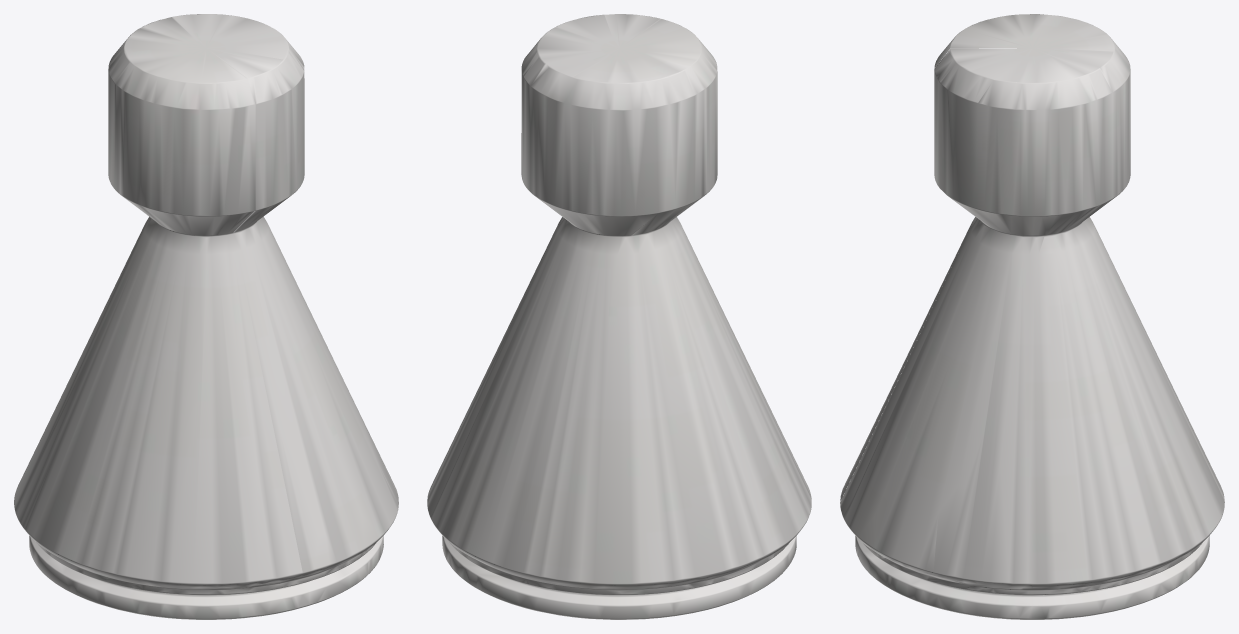
Rendered from pawn-white.glb.
3 views of the same model, side by side, from view 1: azimuth 30°, elevation 25°; view 2: azimuth 150°, elevation 25°; view 3: azimuth 270°, elevation 25° (orthographic).
Visible parts, largest first — view 1: 06_pesec_bila; view 2: 06_pesec_bila; view 3: 06_pesec_bila.
Boxes of the visible parts, x1,y1,x2,y2 form: 06_pesec_bila: (14, 14, 398, 619); 06_pesec_bila: (427, 14, 811, 619); 06_pesec_bila: (840, 14, 1224, 619).
Bounding box in the file's own units: 0.6157 × 0.88 × 0.6157.
1 material, 1 textured.
